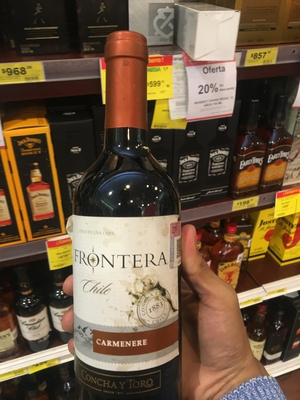frontera carmenere: (71, 32, 186, 386)
